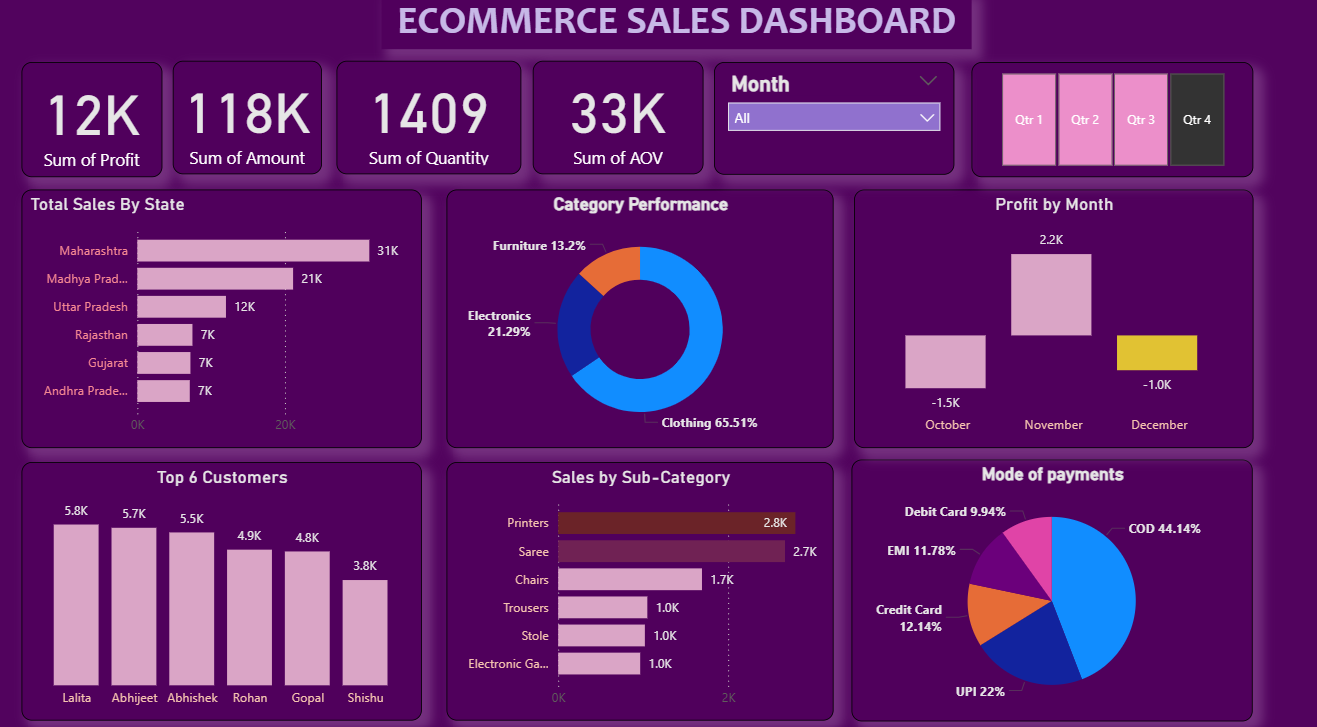

The dashboard page shown, as its layout file describes it:
{"tool":"powerbi","page":{"name":"Page 1","canvas":[1280,720],"ordinal":0},"visuals":[{"type":"textbox","box":[369.2,0,569.4,55.5],"z":0},{"type":"card","fields":{"Values":["Sum(Details.Profit)"]},"box":[22,67.2,135.8,111.1],"z":1000},{"type":"card","fields":{"Values":["Sum(Details.Amount)"]},"box":[167.4,65.9,144.1,109.8],"z":2000},{"type":"card","fields":{"Values":["Sum(Details.Quantity)"]},"box":[325.2,65.9,178.4,109.8],"z":3000},{"type":"card","fields":{"Values":["Sum(Details.AOV)"]},"box":[514.6,65.9,164.7,109.8],"z":4000},{"type":"clusteredBarChart","title":"Total Sales By State","fields":{"Category":["Orders.State"],"Y":["Sum(Details.Amount)"]},"box":[21.7,190.6,386.1,249.7],"z":5000},{"type":"donutChart","title":" Category Performance","fields":{"Y":["Sum(Details.Quantity)"],"Category":["Details.Category"]},"box":[431.9,190.6,374,249.7],"z":6000},{"type":"clusteredBarChart","title":"Sales by Sub-Category","fields":{"Category":["Details.Sub-Category"],"Y":["Sum(Details.Profit)"]},"box":[431.9,453.6,374,249.7],"z":7000},{"type":"clusteredColumnChart","title":"Top 6 Customers","fields":{"Category":["Orders.CustomerName"],"Y":["Sum(Details.Amount)"]},"box":[21.7,453.6,386.1,249.7],"z":8000},{"type":"pieChart","title":"Mode of payments","fields":{"Category":["Details.PaymentMode"],"Y":["Sum(Details.Quantity)"]},"box":[823.3,451.5,387,252.5],"z":9000},{"type":"clusteredColumnChart","title":"Profit by Month","fields":{"Category":["Orders.Order Date.Variation.Date Hierarchy.Month"],"Y":["Sum(Details.Profit)"]},"box":[824.7,190.7,385.6,249.7],"z":10000},{"type":"slicer","fields":{"Values":["Orders.Order Date.Variation.Date Hierarchy.Quarter"]},"box":[938.6,67.2,271.7,111.1],"z":11000},{"type":"slicer","fields":{"Values":["Orders.Order Date.Variation.Date Hierarchy.Month"]},"box":[690.2,67.2,231.9,108.4],"z":12000}]}

Visuals, with their boxes in screenshot pixels (x1, y1, x2, y2), scaled from the page's 1280x720 canvas onto the 1317x727 screenshot:
textbox: l=380, t=0, r=966, b=56
card - Sum(Details.Profit): l=23, t=68, r=162, b=180
card - Sum(Details.Amount): l=172, t=67, r=321, b=177
card - Sum(Details.Quantity): l=335, t=67, r=518, b=177
card - Sum(Details.AOV): l=529, t=67, r=699, b=177
"Total Sales By State" clusteredBarChart: l=22, t=192, r=420, b=445
" Category Performance" donutChart: l=444, t=192, r=829, b=445
"Sales by Sub-Category" clusteredBarChart: l=444, t=458, r=829, b=710
"Top 6 Customers" clusteredColumnChart: l=22, t=458, r=420, b=710
"Mode of payments" pieChart: l=847, t=456, r=1245, b=711
"Profit by Month" clusteredColumnChart: l=849, t=193, r=1245, b=445
slicer - Orders.Order Date.Variation.Date Hierarchy.Quarter: l=966, t=68, r=1245, b=180
slicer - Orders.Order Date.Variation.Date Hierarchy.Month: l=710, t=68, r=949, b=177
